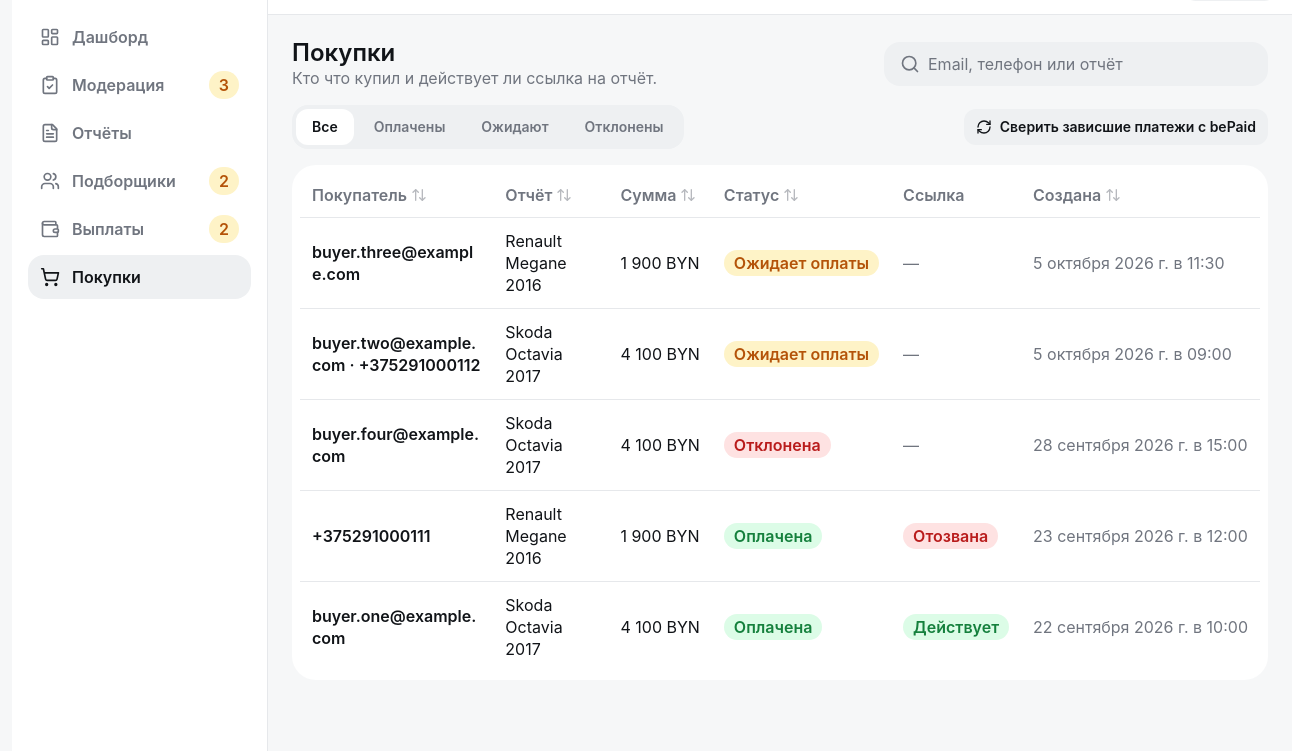
список › вкладки пишут ?status=, «Все» — без параметра
This screenshot has width=1292, height=751.
Click the tab "Оплачены" at {"x": 410, "y": 127}, box 358,109 -> 461,145
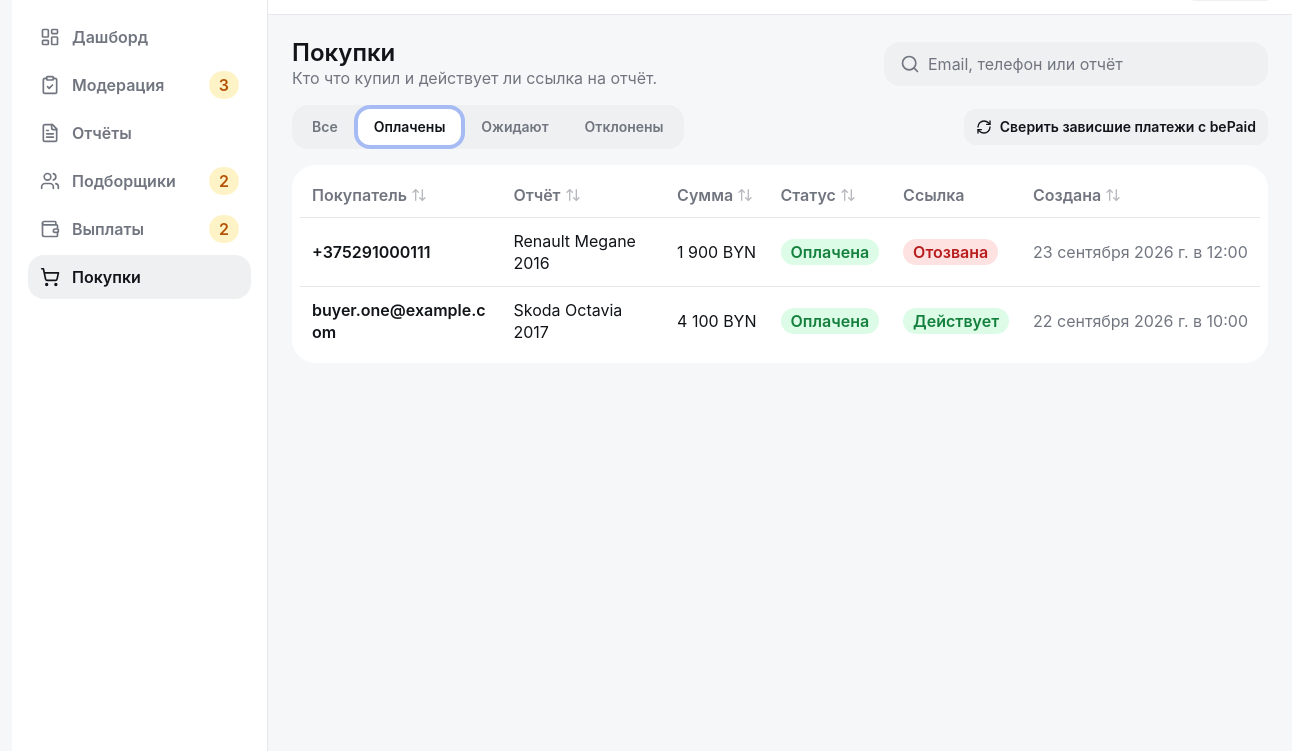
Click the tab "Все" at {"x": 325, "y": 127}, box 296,109 -> 354,145
(page scrolled)
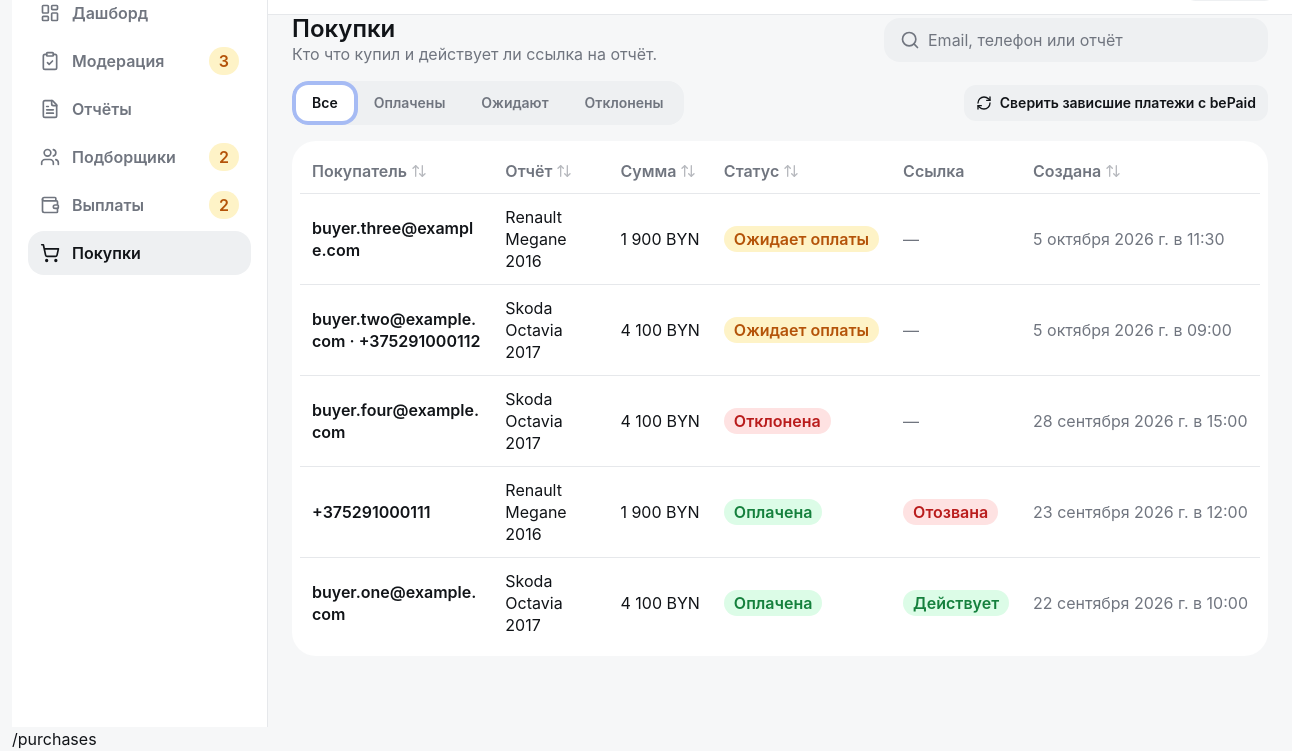
Check: the text with test id "location" reads "/purchases", box 12,729 -> 97,749
